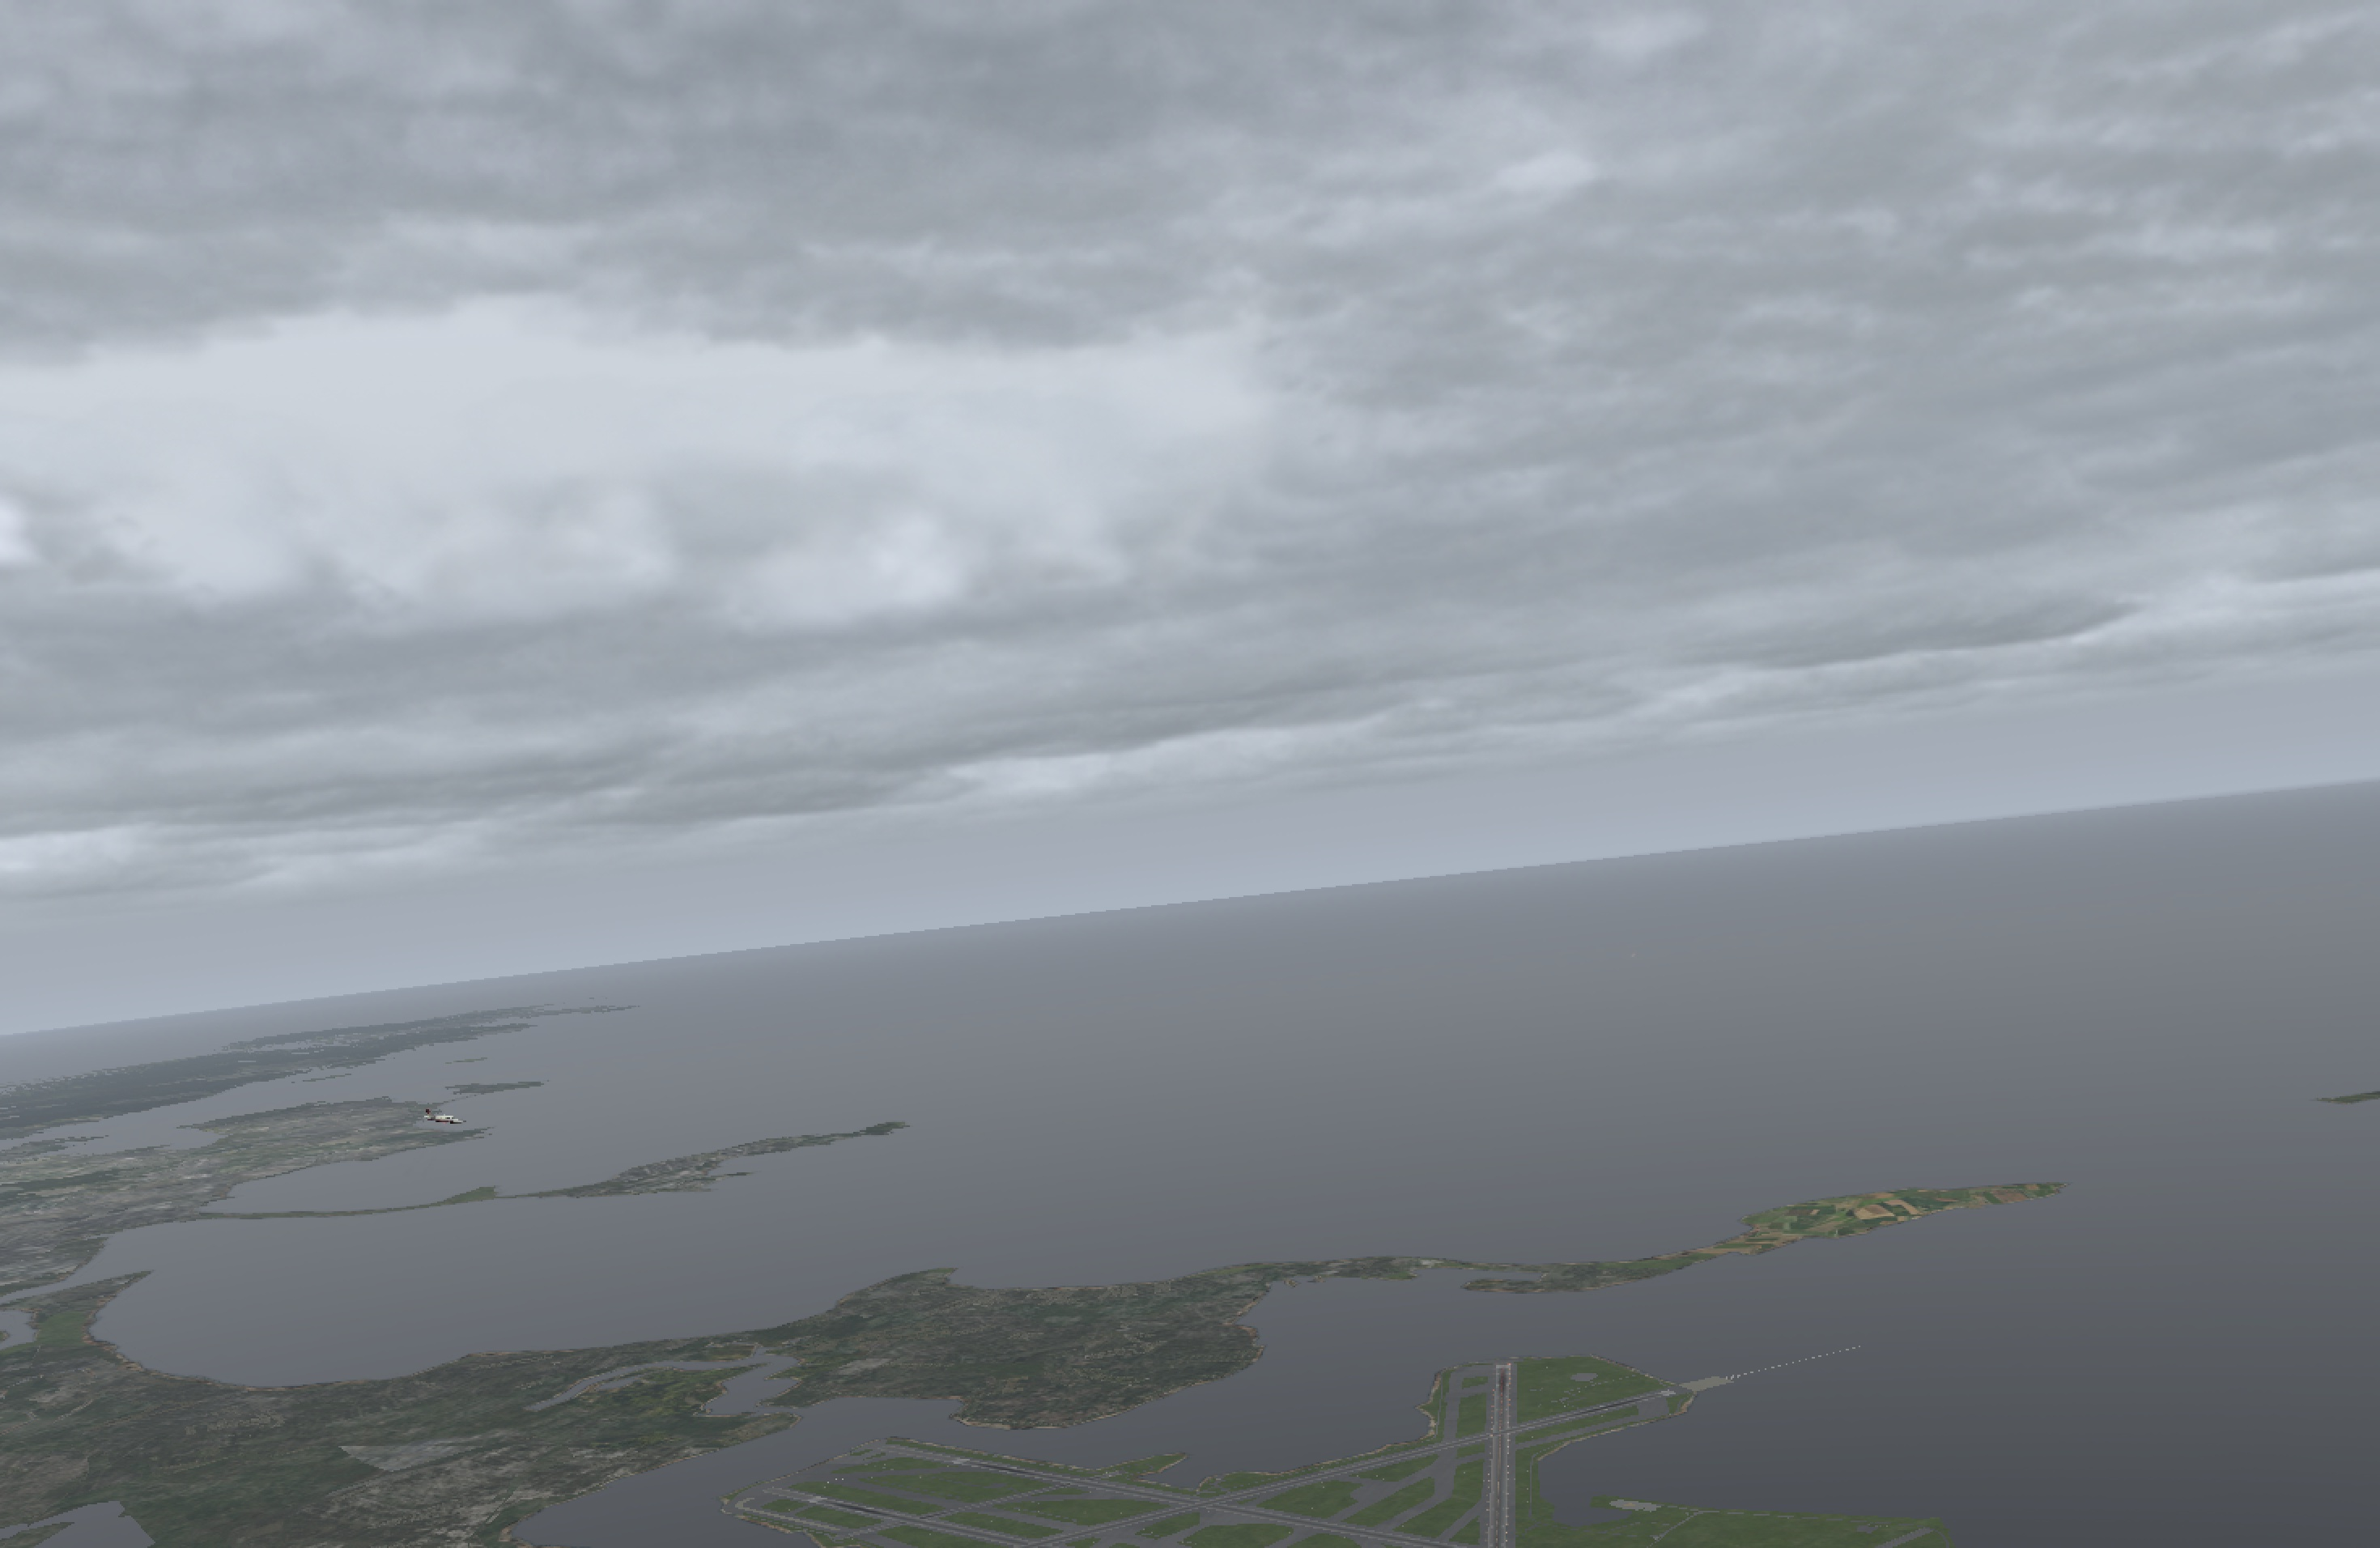aircraft: (420, 1112, 477, 1133)
